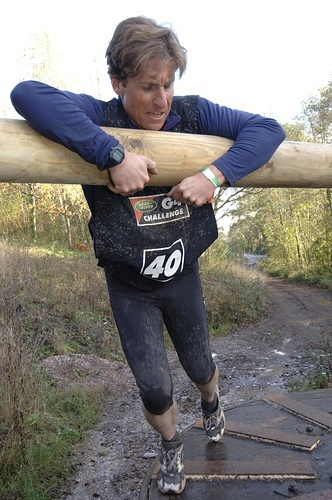head: (106, 17, 190, 131)
person: (9, 13, 288, 494)
